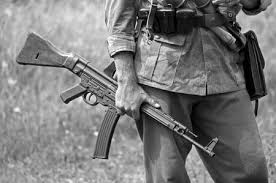gun: (11, 27, 225, 167)
